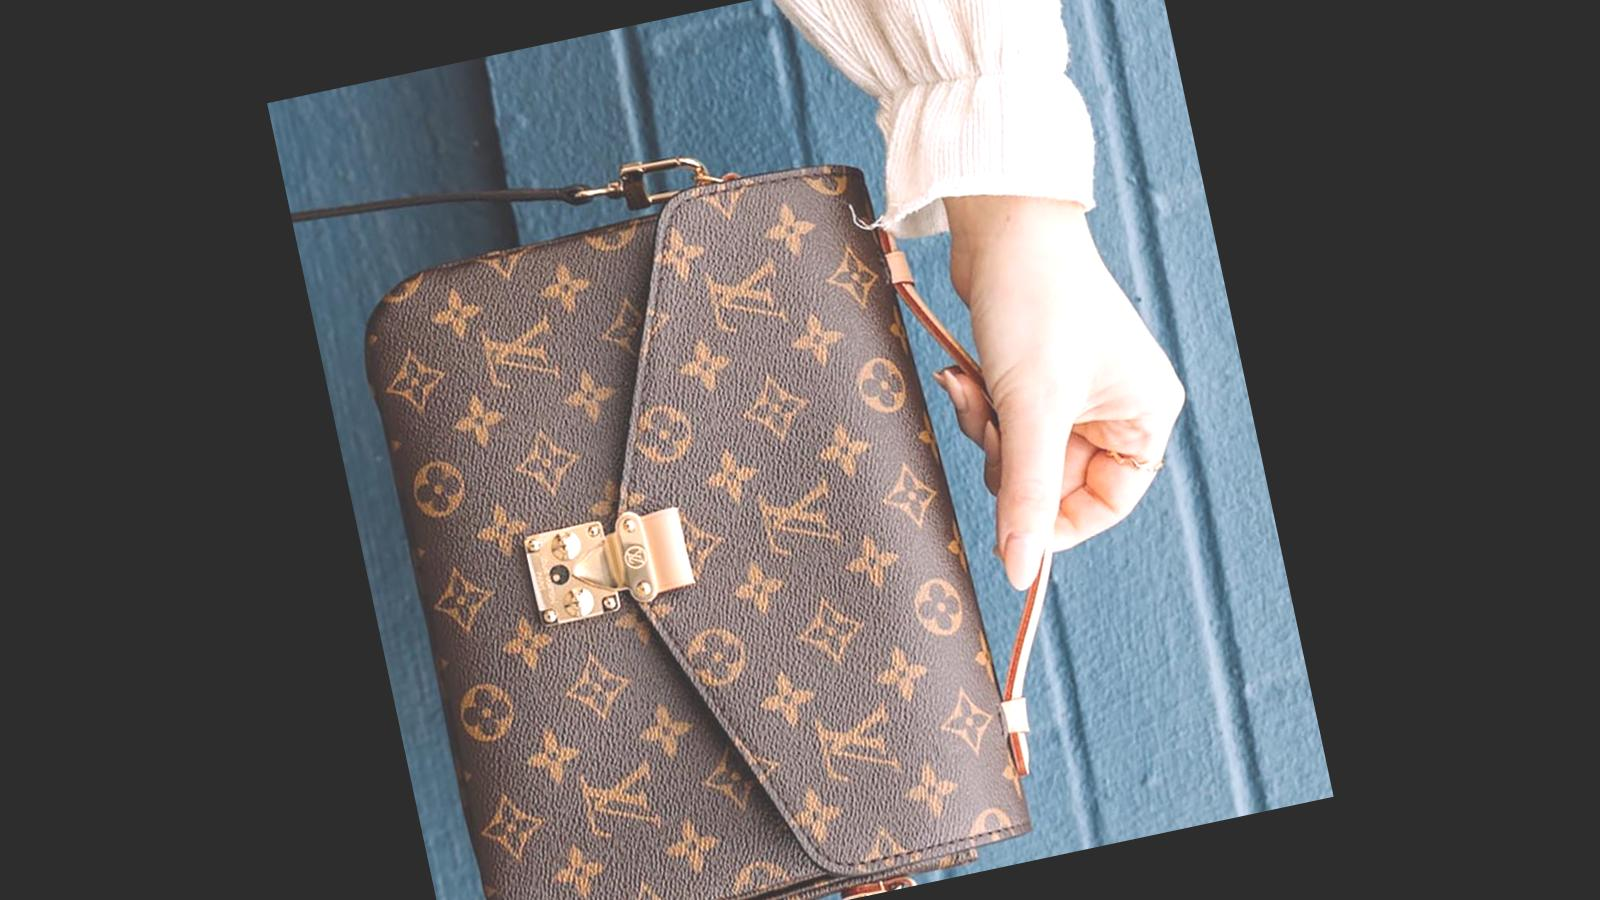LOUIS-VUITTON: (338, 153, 1029, 900)
